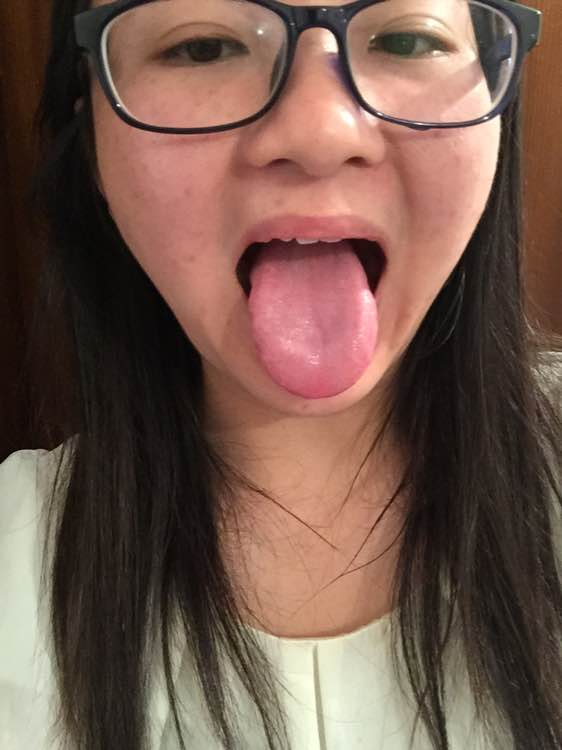chihenshe: (248, 268, 270, 378)
hongshe: (248, 239, 378, 399)
